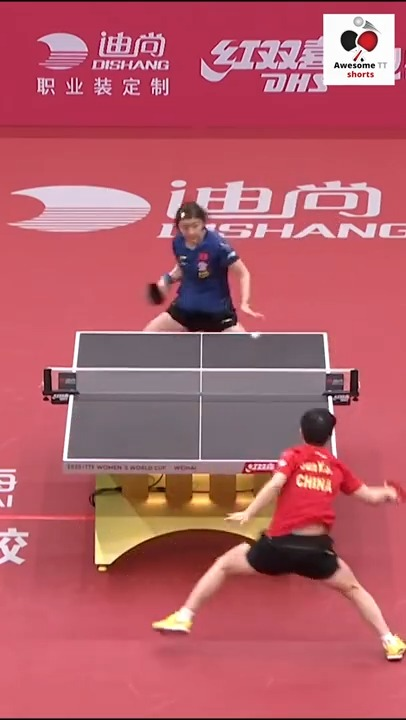Ball: (250, 331, 262, 340)
